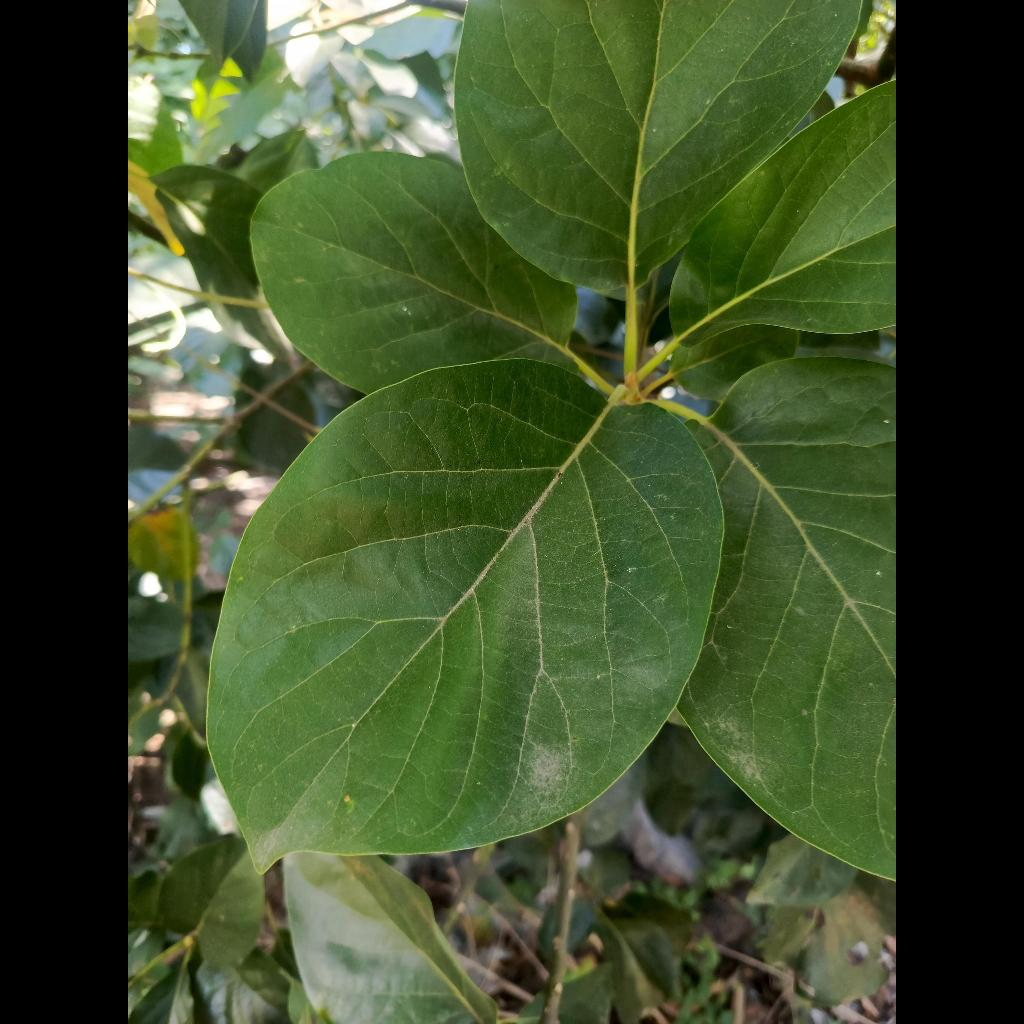Healthy: (208, 360, 721, 868), (456, 0, 859, 289), (251, 152, 577, 392)
